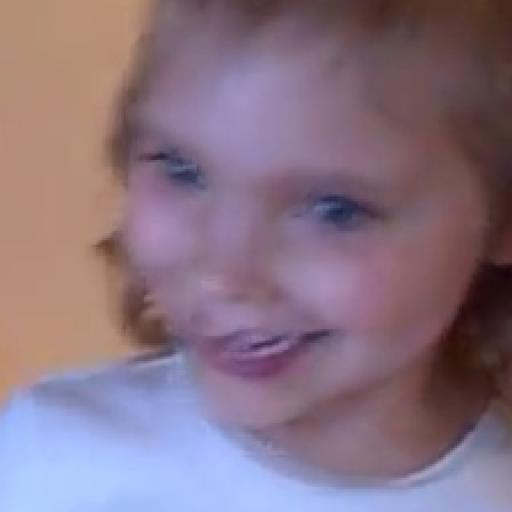Autism: (98, 23, 482, 430)
